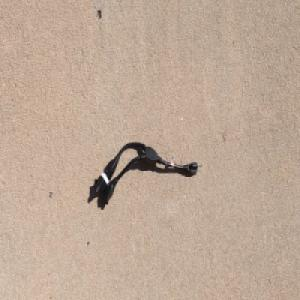Wire: (93, 141, 203, 206)
